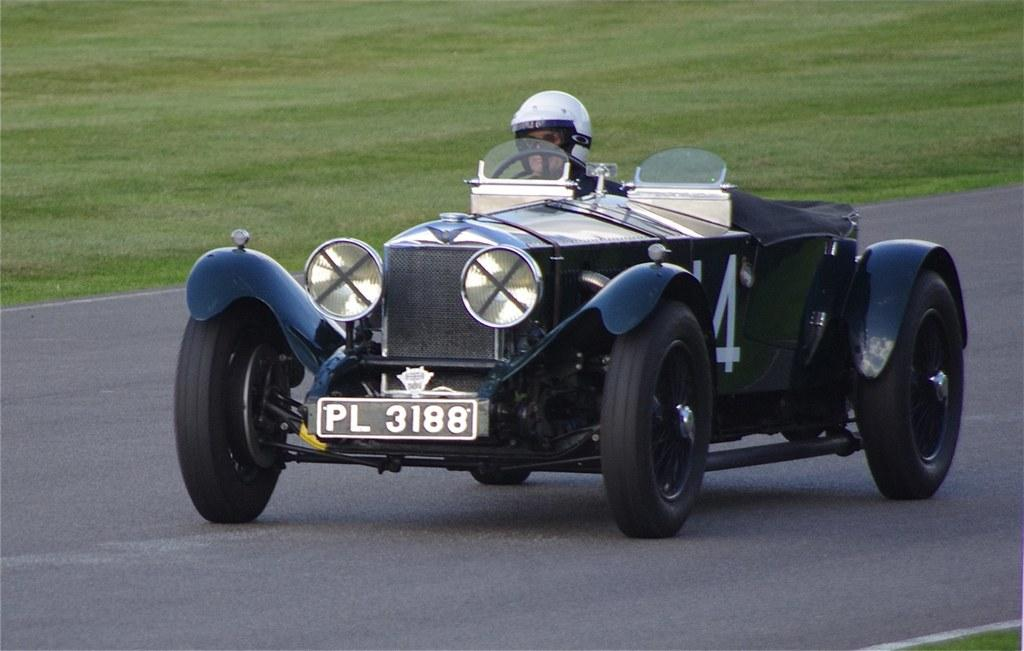helmet: (510, 90, 593, 174)
